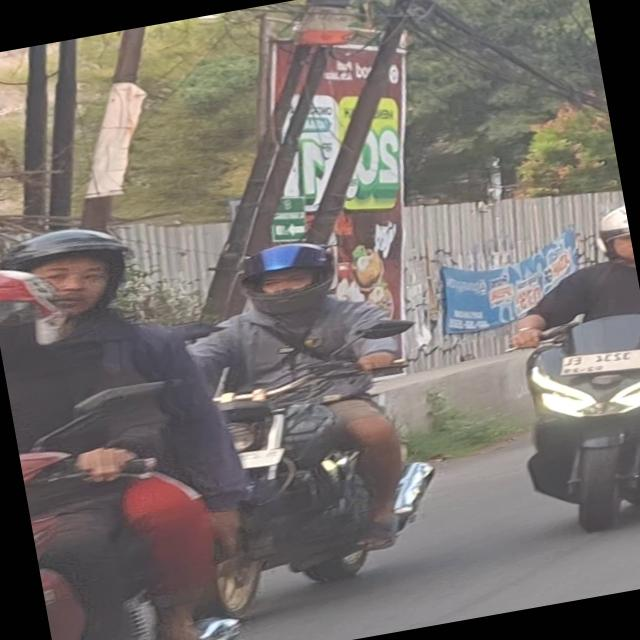WithHelmet: (0, 204, 267, 585), (169, 225, 439, 576), (0, 247, 180, 640), (488, 205, 640, 356)
